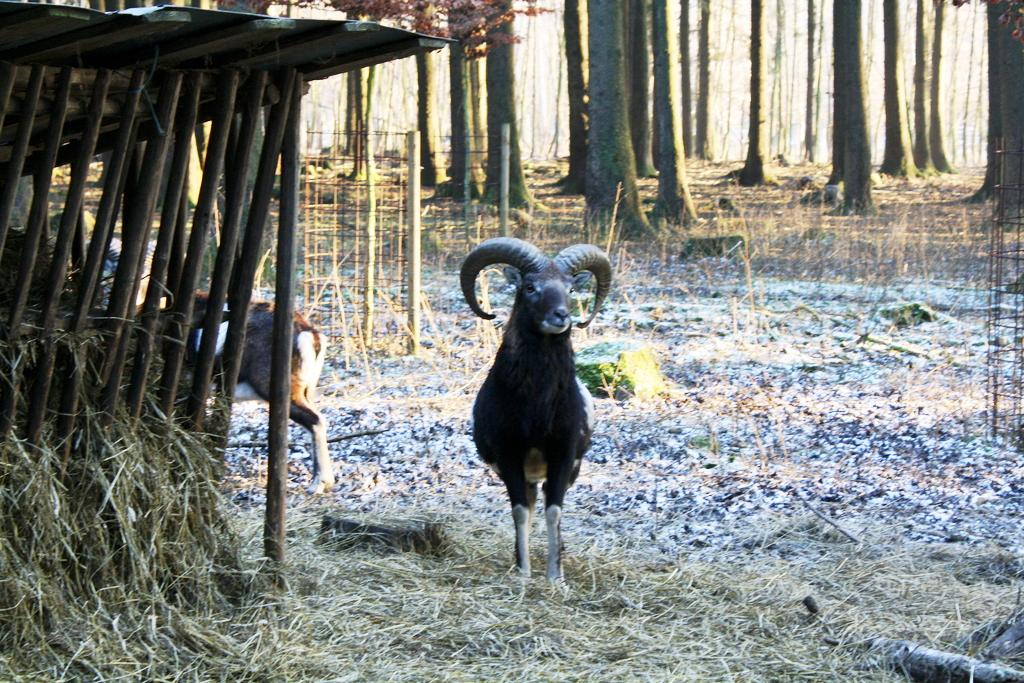Sheep: (455, 233, 616, 596), (138, 290, 340, 492)
